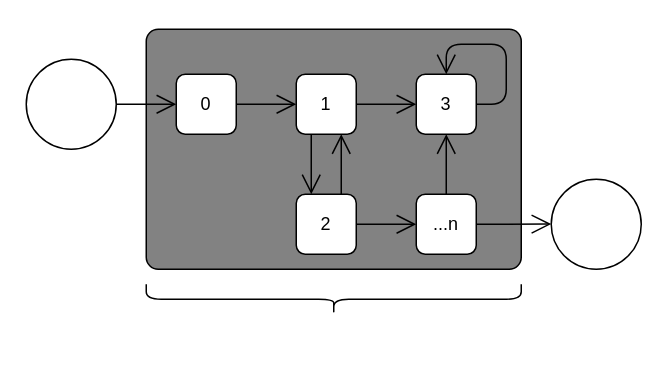
Some shapes in this 668 by 386 pixel diagram are drawn without their labels. The centre of each missing label's shape, as x and y in pixels:
"Finite number of elementary steps" belongs at point (333, 298).
"Inputs" belongs at point (70, 103).
"Outputs" belongs at point (595, 223).
